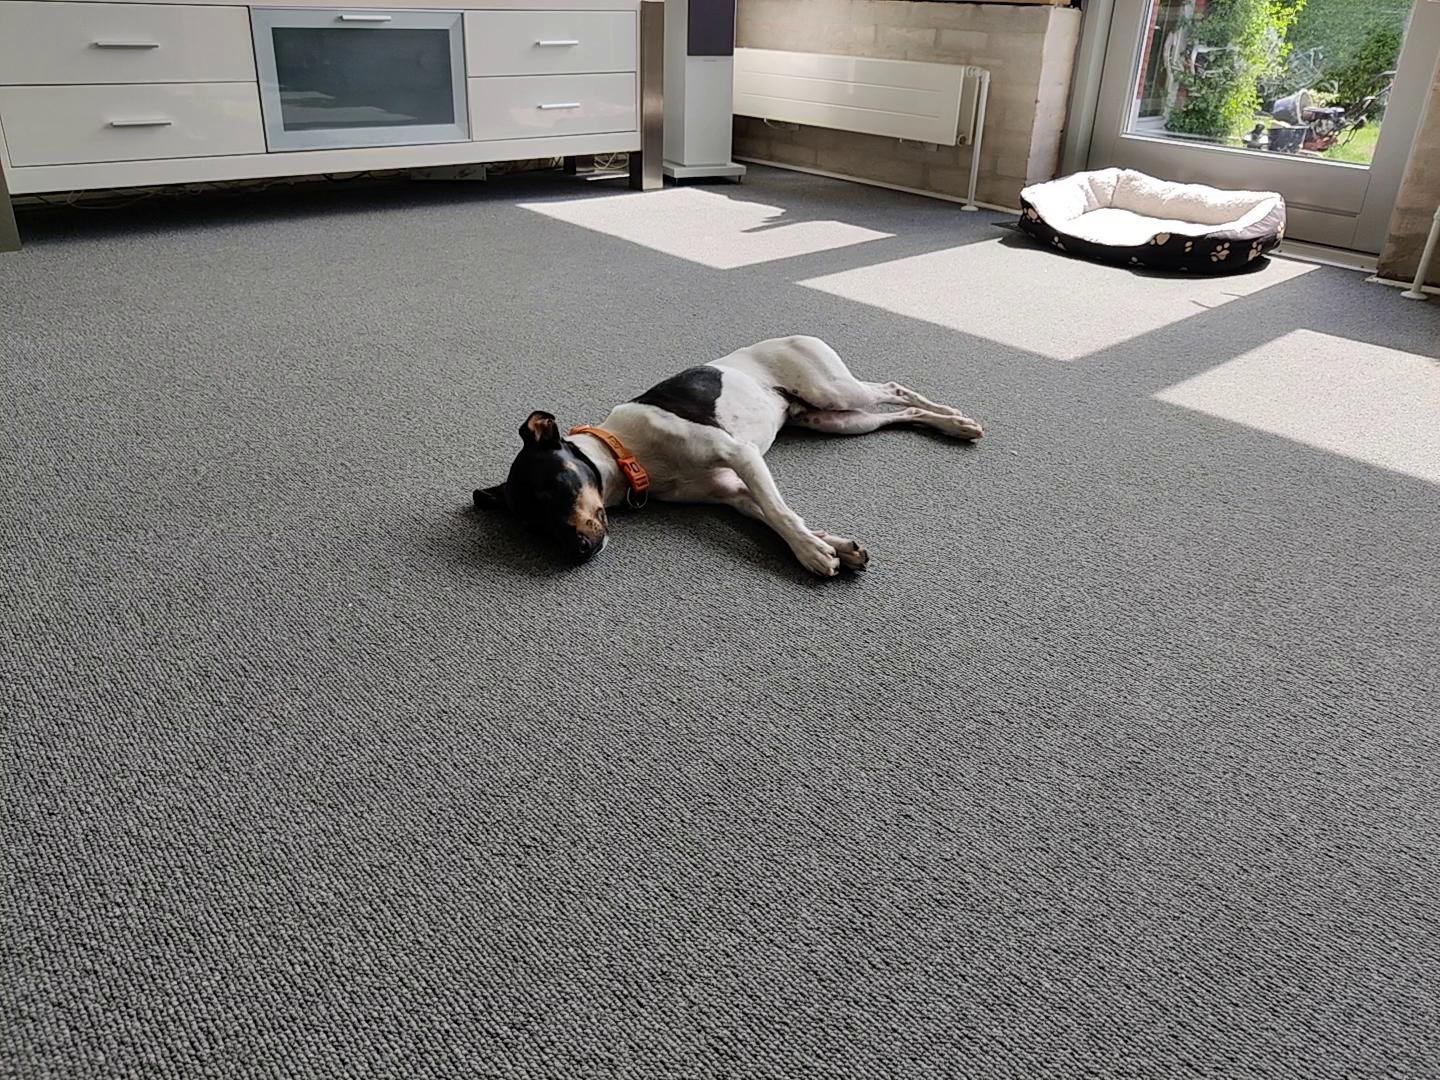Dog: (446, 330, 1003, 599)
